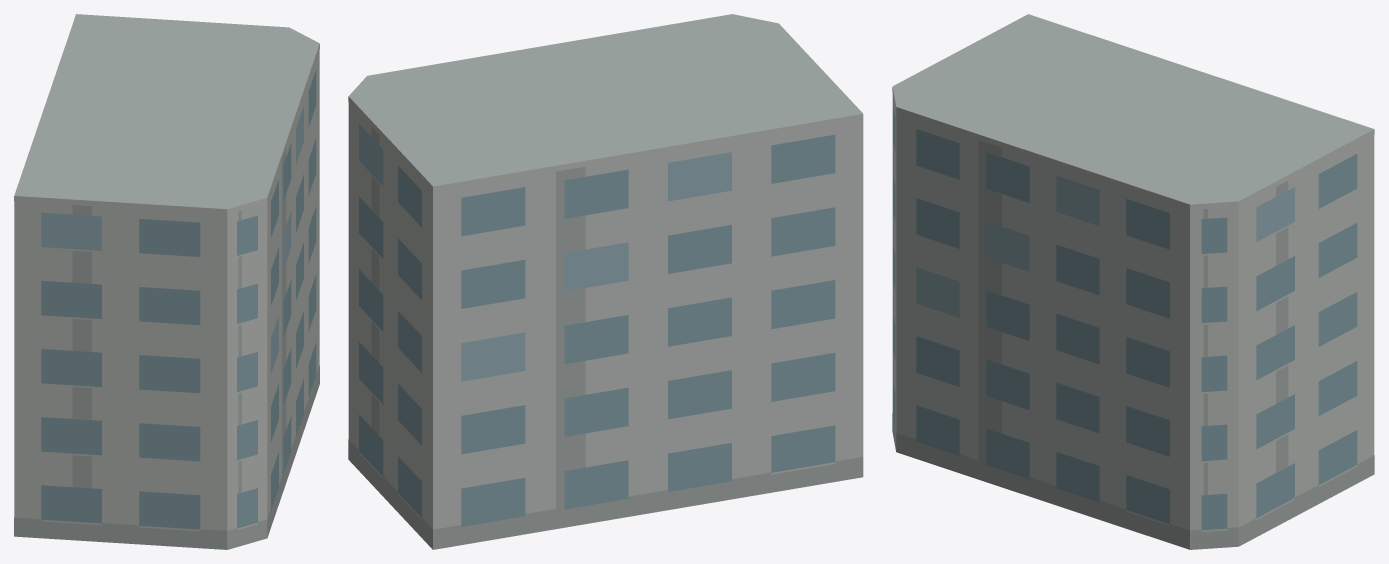
File: survey-upis-32785781.glb
The picture shows the model from 3 angles, left to right: view 1: azimuth 30°, elevation 25°; view 2: azimuth 150°, elevation 25°; view 3: azimuth 270°, elevation 25°; orthographic projection. The views are drawn at different scales.
Parts seen in each view (by area): view 1: survey-upis-32785781.tmp; view 2: survey-upis-32785781.tmp; view 3: survey-upis-32785781.tmp.
Part boxes in pixels (x1,y1,x2,y2): survey-upis-32785781.tmp: [14, 14, 319, 549]; survey-upis-32785781.tmp: [348, 14, 863, 549]; survey-upis-32785781.tmp: [892, 14, 1374, 549].
Size of the model in its own units: 18.01 by 15.2 by 19.24.
